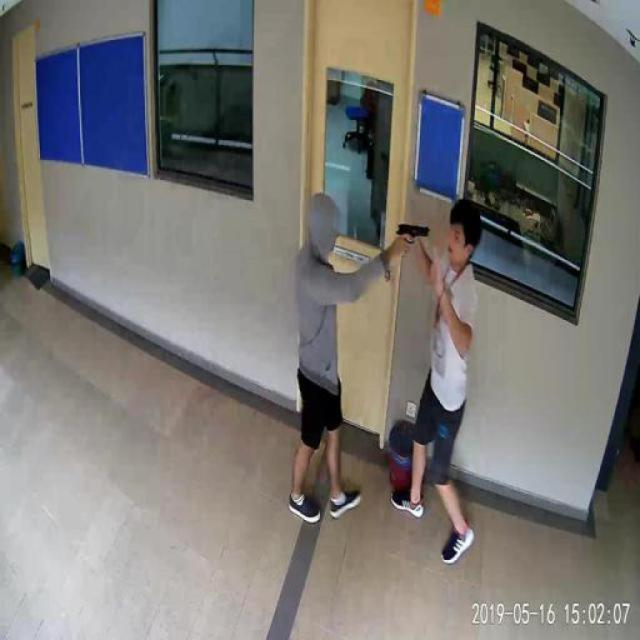pistol: (394, 217, 428, 255)
